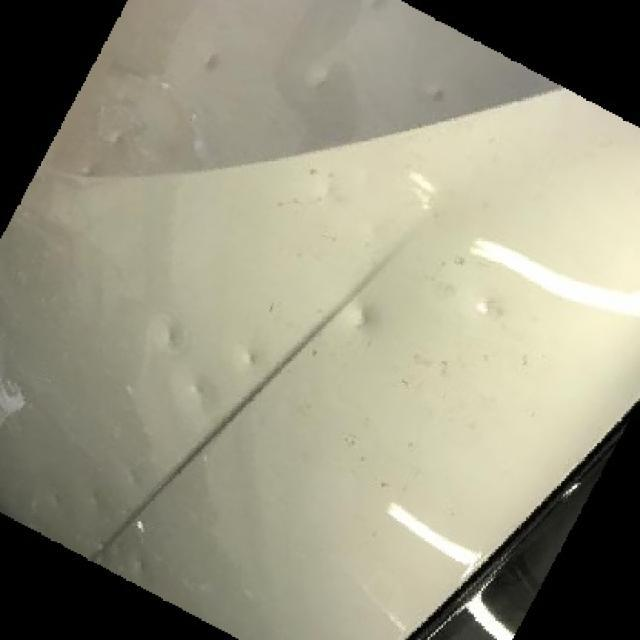dent: (344, 302, 374, 330), (304, 64, 334, 90), (190, 377, 216, 403), (476, 297, 502, 320), (124, 464, 144, 492), (163, 326, 183, 349), (243, 348, 263, 368), (428, 85, 448, 104), (132, 552, 148, 574), (86, 494, 102, 511), (204, 54, 218, 72)
